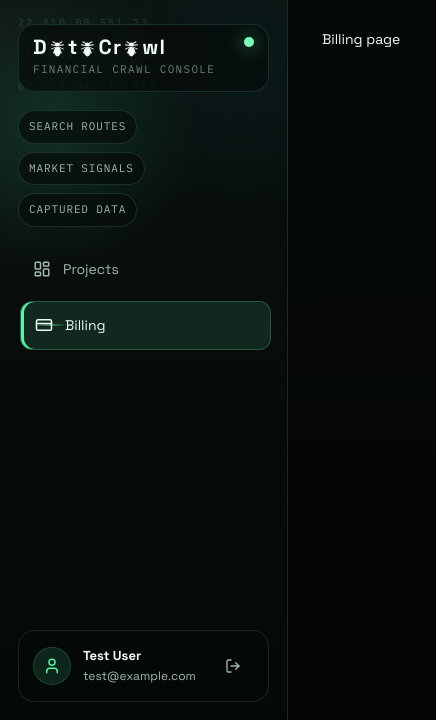
Scenario: frontend route smoke tests › sends the shell logo back to the projects home page
Click the link named "datacrawl": (144, 58) [18,24,269,92]
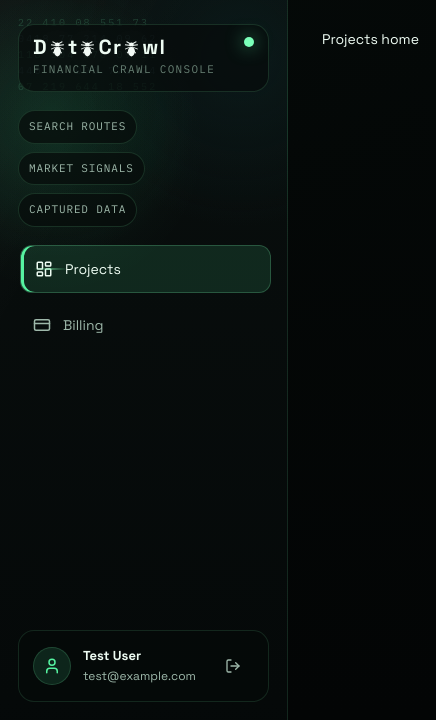
Expected: the text "Projects home" is shown, [322,30,419,48]
